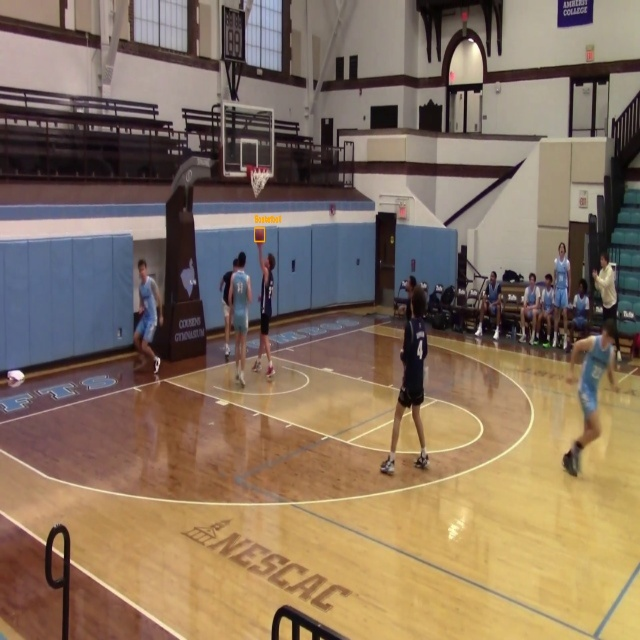Basketball: (255, 228, 265, 241)
